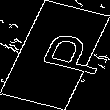P_W: (13, 29, 97, 81)
